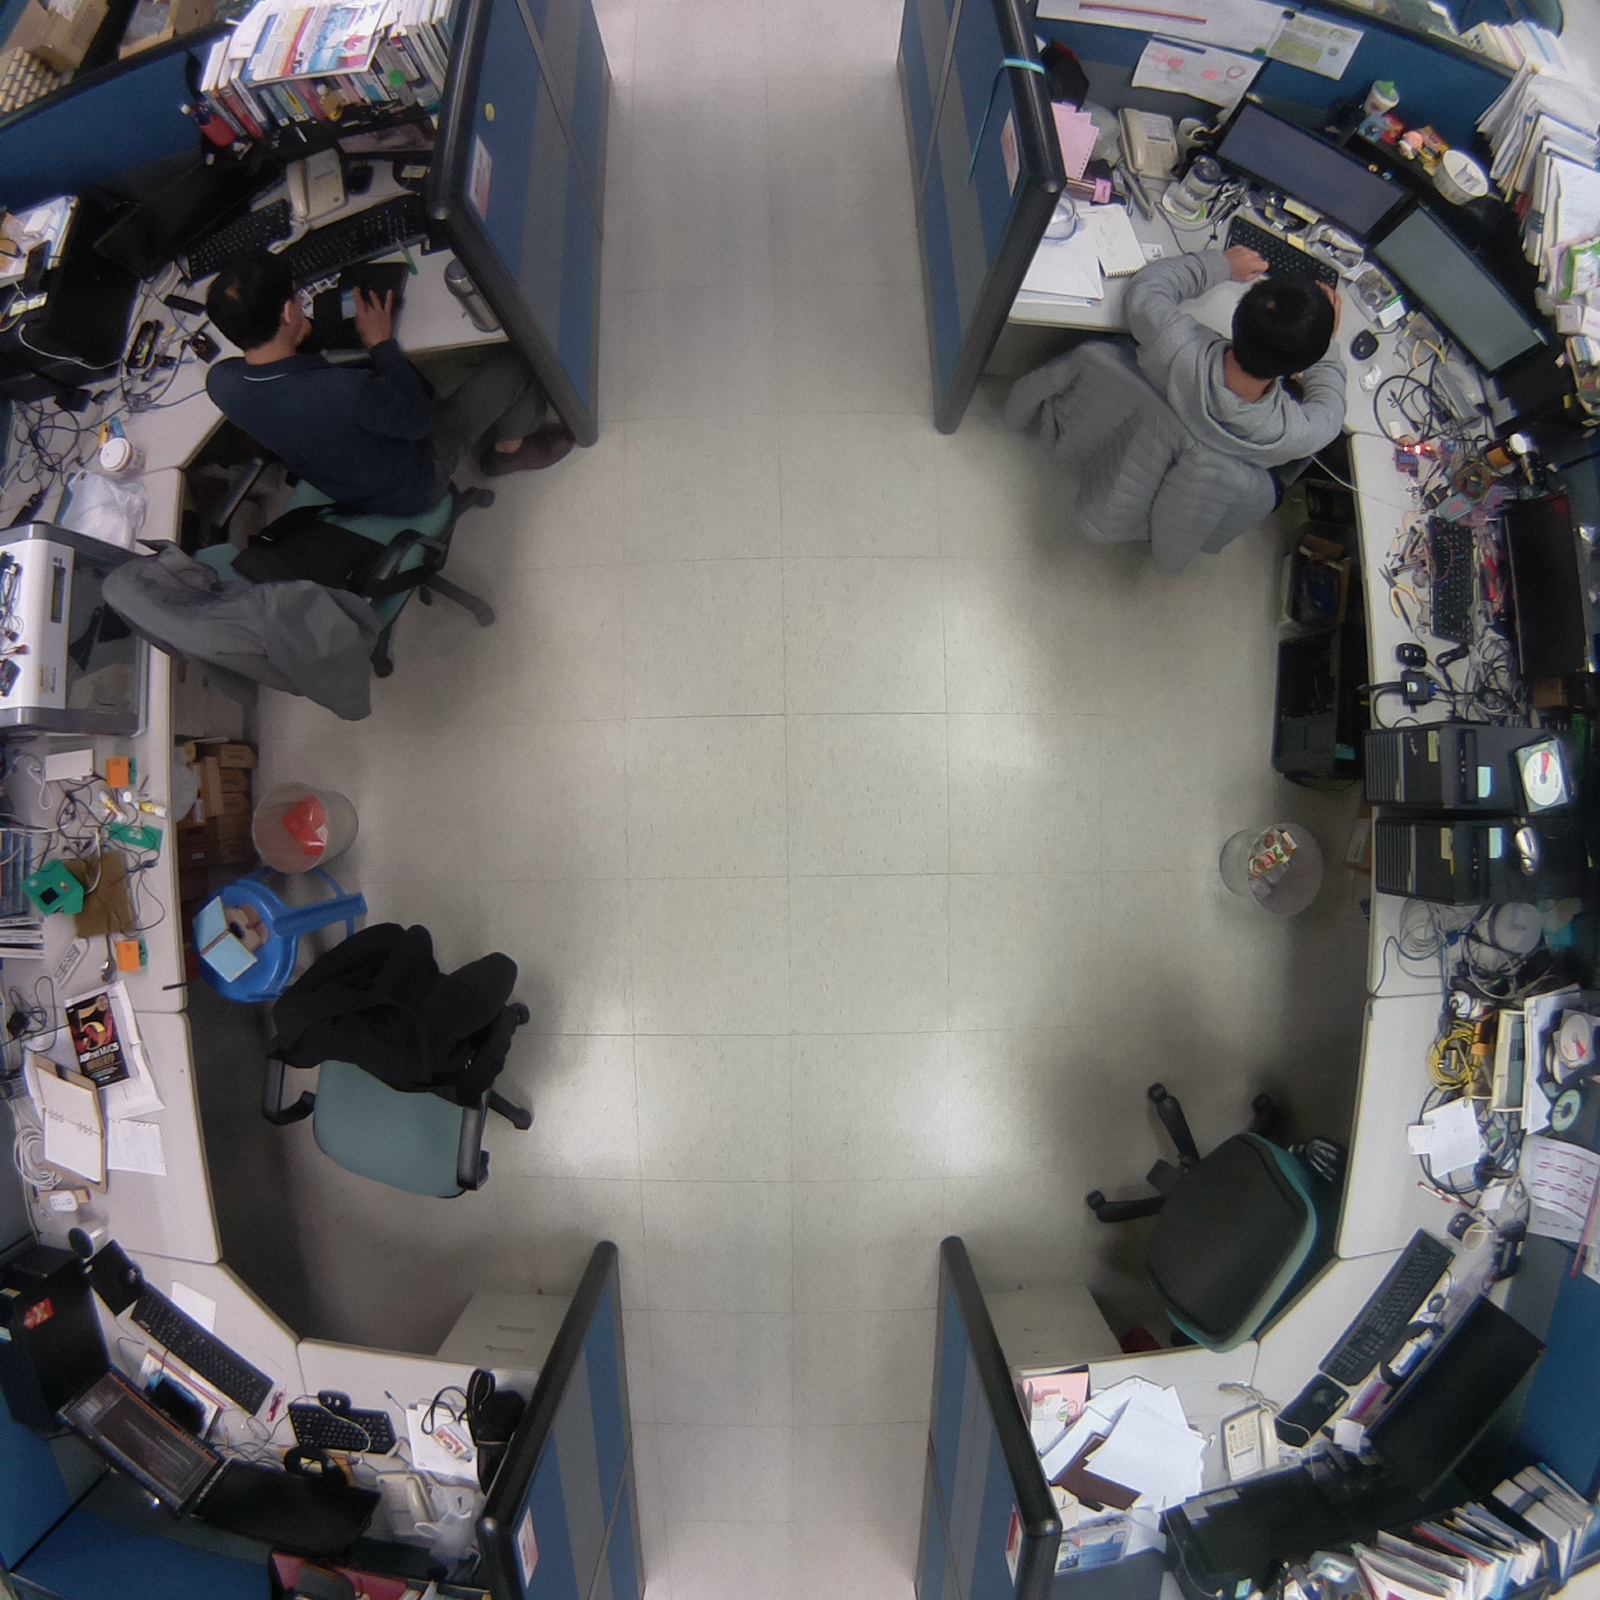chair: (234, 913, 561, 1222), (1070, 1064, 1361, 1374)
sitting: (88, 233, 511, 736), (983, 229, 1368, 593)
